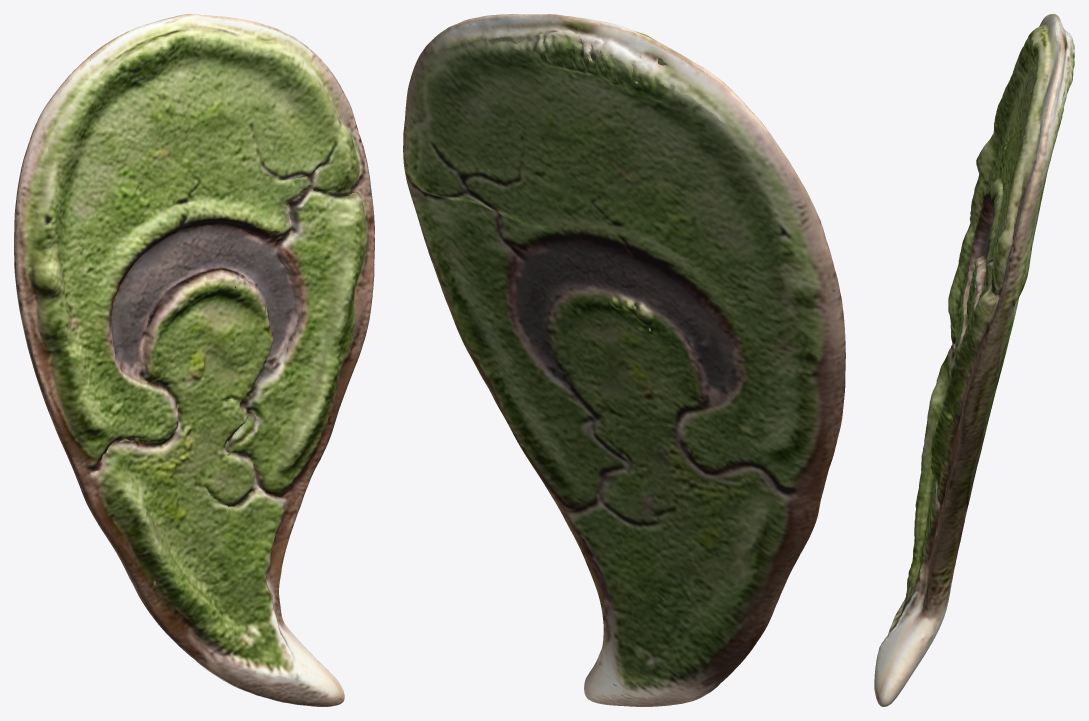
3 views of the same model, side by side, from view 1: azimuth 30°, elevation 25°; view 2: azimuth 150°, elevation 25°; view 3: azimuth 270°, elevation 25° (orthographic). The views are drawn at different scales.
Visible parts, largest first — view 1: geometry_0; view 2: geometry_0; view 3: geometry_0.
Boxes of the visible parts, x1,y1,x2,y2 form: geometry_0: [14, 14, 374, 706]; geometry_0: [403, 14, 845, 706]; geometry_0: [874, 14, 1074, 706].
Size of the model in its own units: 0.12 by 0.2076 by 0.0599.
Materials: 1 (1 with a texture image).
